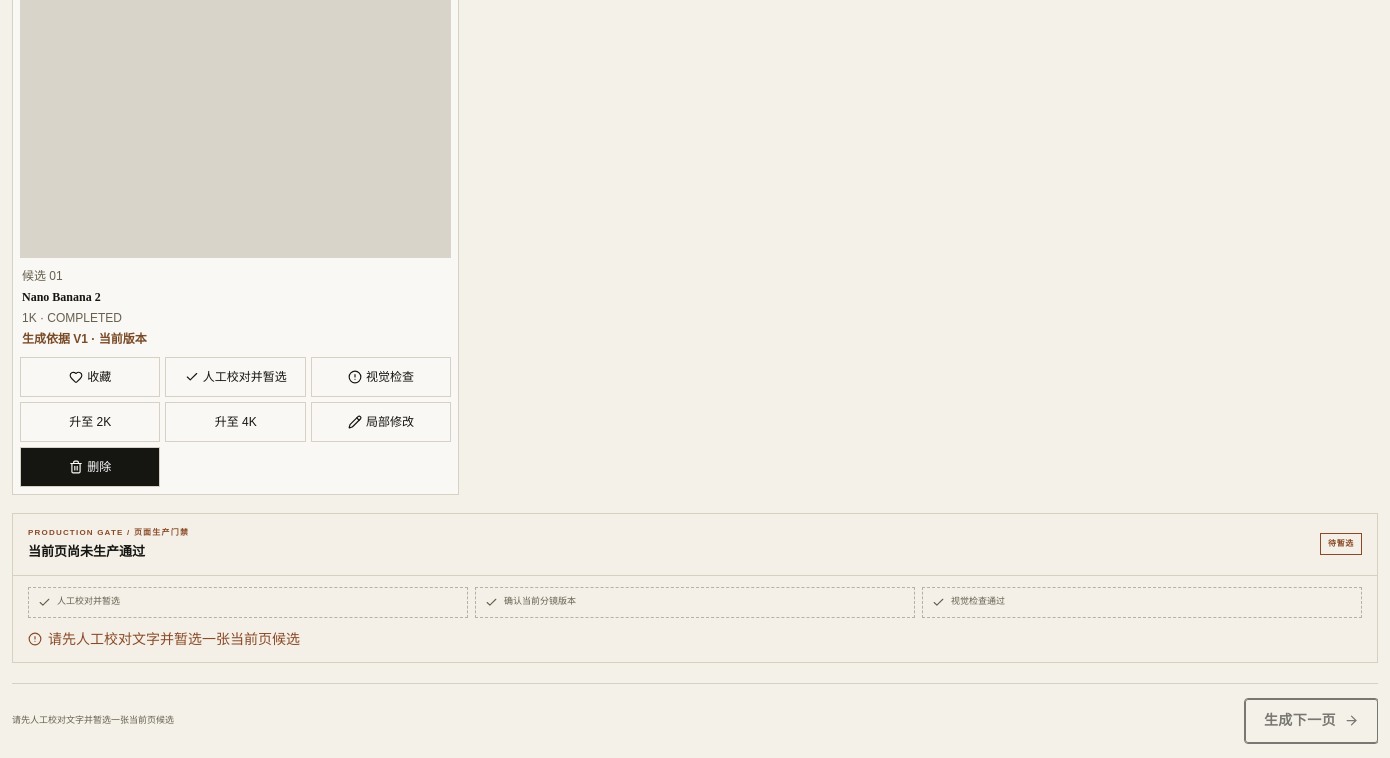
Test: GenerateSection 关键行为 › 暂选被服务端拒绝时，409 blockers 逐条展示而不是一句泛化文案
(page scrolled)
Click the button "人工校对并暂选": (236, 377) [165, 357, 306, 397]
(page scrolled)
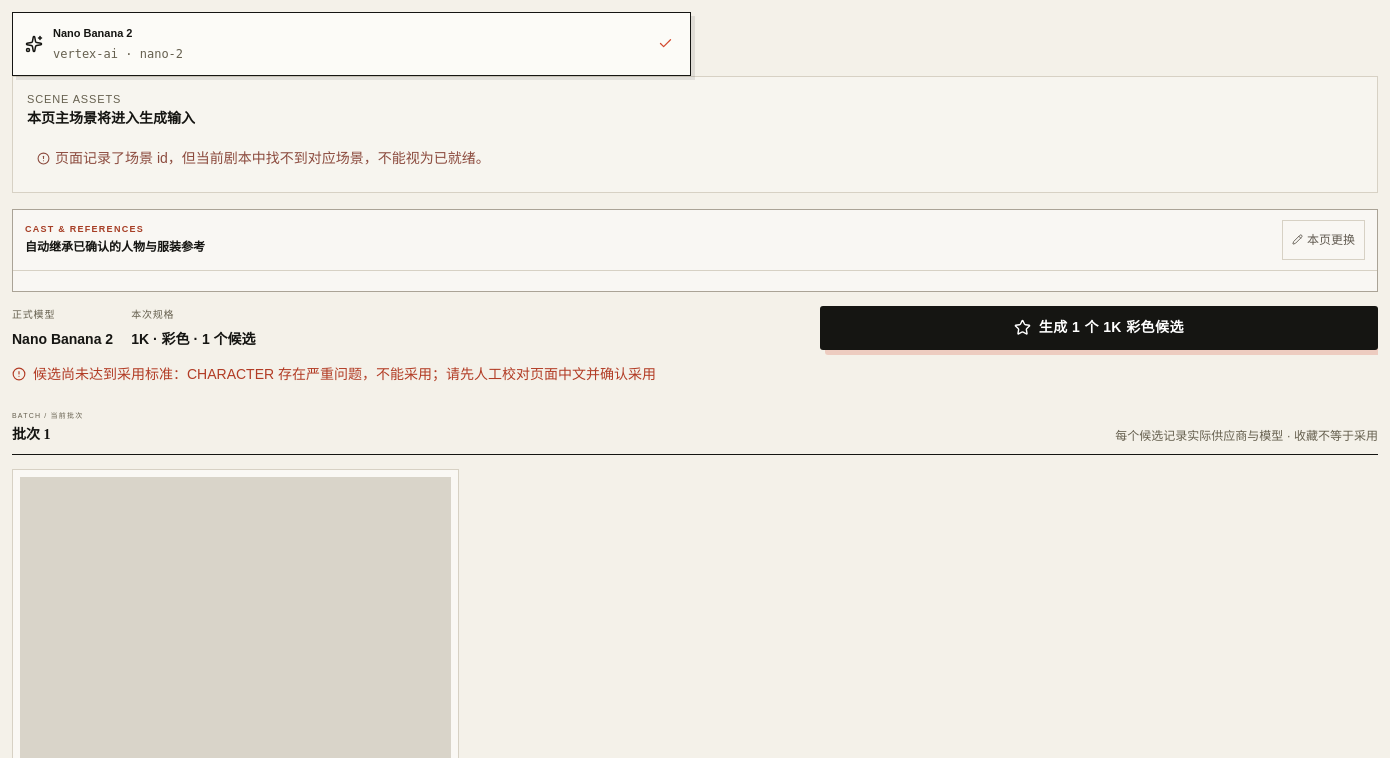
Result: the text "候选尚未达到采用标准：CHARACTER 存在严重问题，不能采用；请先人工校对页面中文并确认采用" is shown at [12, 366, 656, 382]
